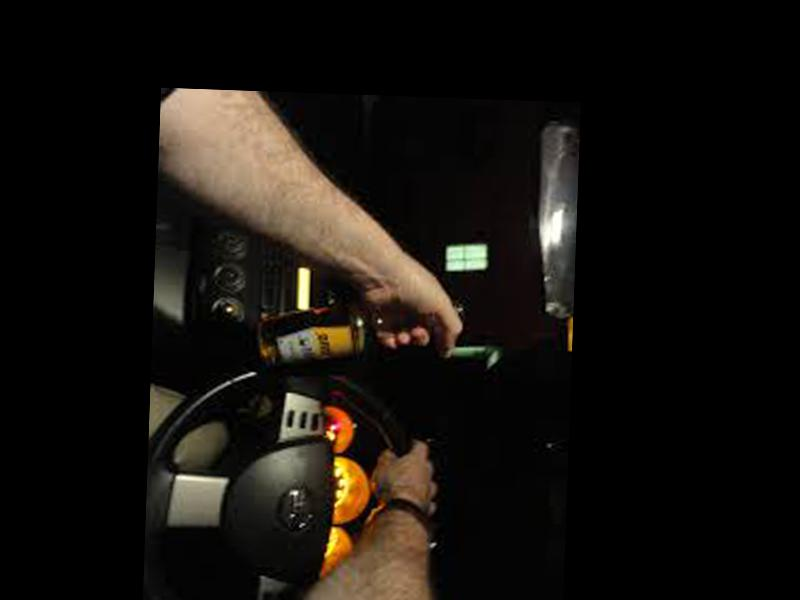Beer: (258, 292, 463, 379)
